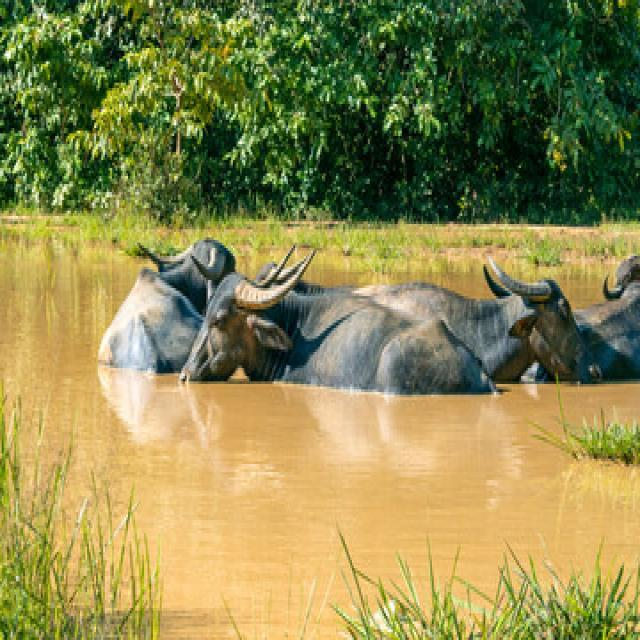Buffalo: (178, 250, 495, 394)
